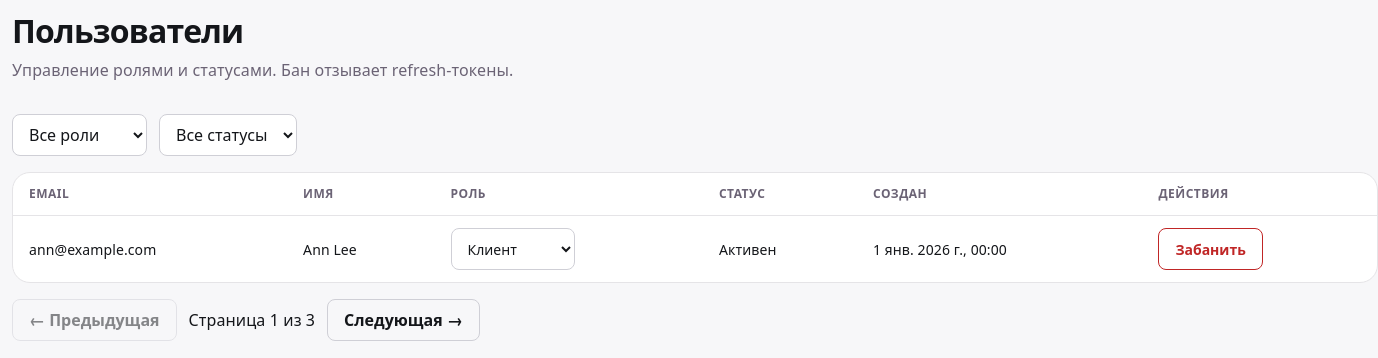
Test: AdminUsersPage › пагинация: вперёд/назад и границы
This screenshot has width=1378, height=358.
Check: the text "Страница 1 из 3" is shown, box 188,309 -> 315,331
Check: the button "← Предыдущая" is disabled, box 12,299 -> 176,341
Step 1. Click the button "Следующая →" → (404, 320), box 327,299 -> 480,341
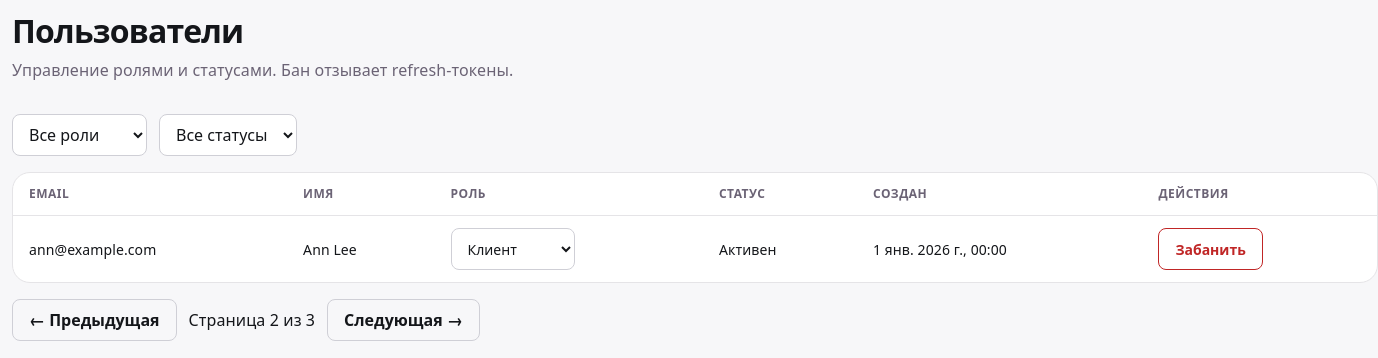
Check: the text "Страница 2 из 3" is shown, box 188,309 -> 315,331
Step 2. Click the button "Следующая →" → (404, 320), box 327,299 -> 480,341
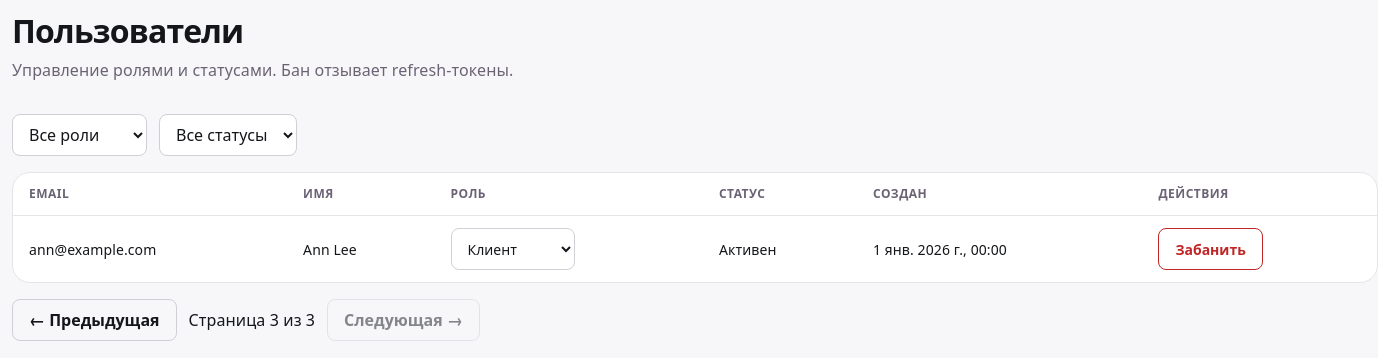
Check: the text "Страница 3 из 3" is shown, box 188,309 -> 315,331
Check: the button "Следующая →" is disabled, box 327,299 -> 480,341
Step 3. Click the button "← Предыдущая" → (94, 320), box 12,299 -> 176,341
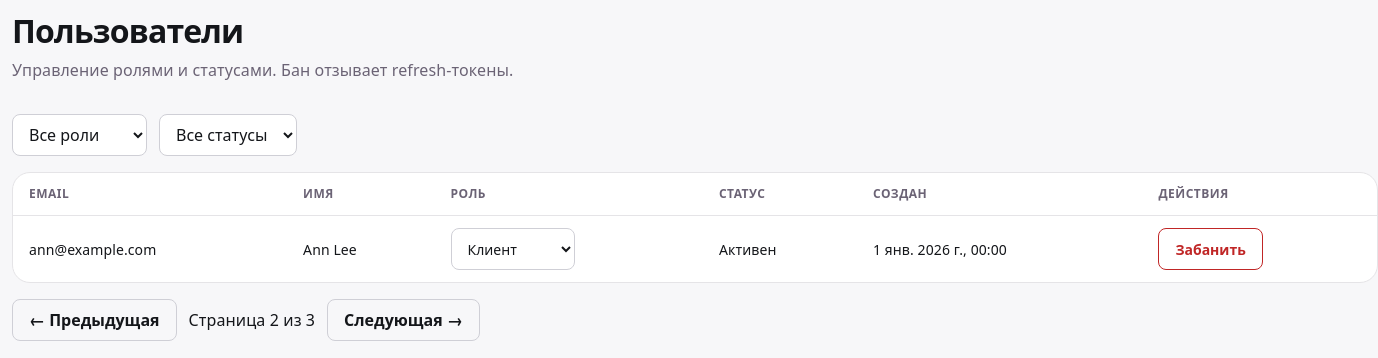
Check: the text "Страница 2 из 3" is shown, box 188,309 -> 315,331
